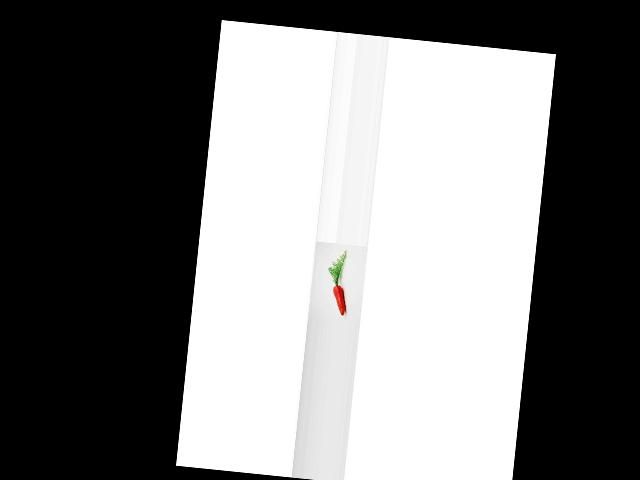carrot: (329, 282, 353, 318)
